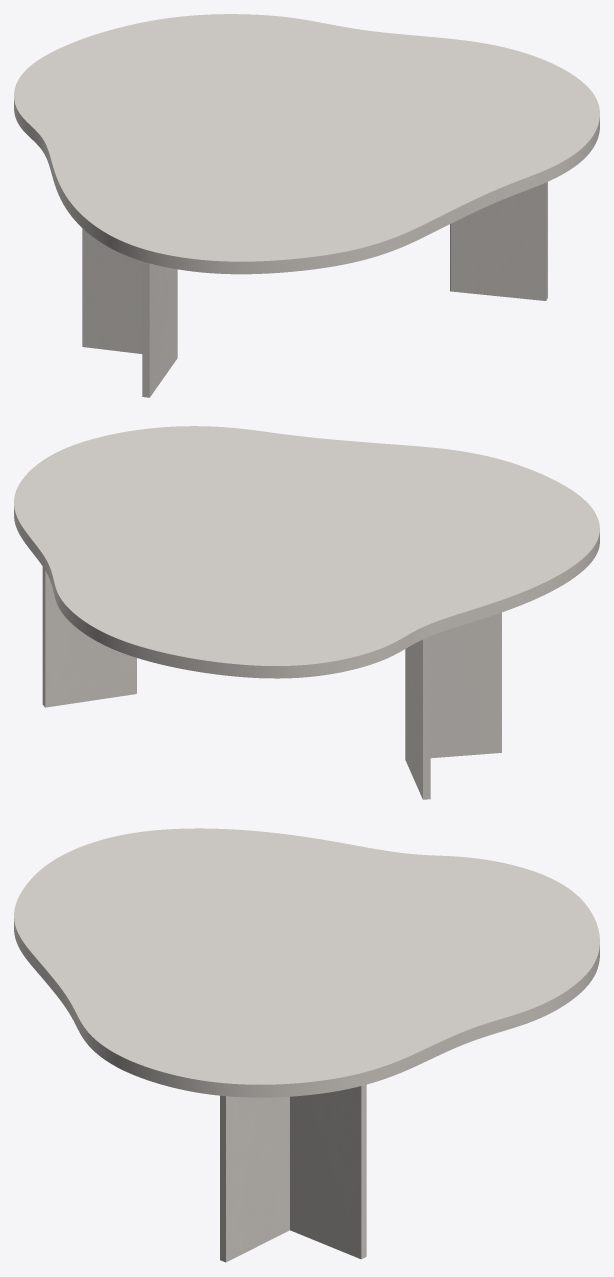
Rendered from pearlwhite_topone_round_valleyv.glb.
3 views of the same model, one above another, from view 1: azimuth 30°, elevation 25°; view 2: azimuth 150°, elevation 25°; view 3: azimuth 270°, elevation 25° (orthographic). The views are drawn at different scales.
Visible parts, largest first — view 1: round_topone, valleyv; view 2: round_topone, valleyv; view 3: round_topone, valleyv.
Boxes of the visible parts, x1,y1,x2,y2 form: round_topone: (14, 14, 599, 274); valleyv: (82, 182, 547, 397); round_topone: (14, 426, 599, 678); valleyv: (42, 567, 501, 799); round_topone: (14, 828, 599, 1097); valleyv: (220, 1084, 366, 1262).
Bounding box in the file's own units: 6.83 × 2.5 × 6.6.
Materials: 1 (1 with a texture image).
